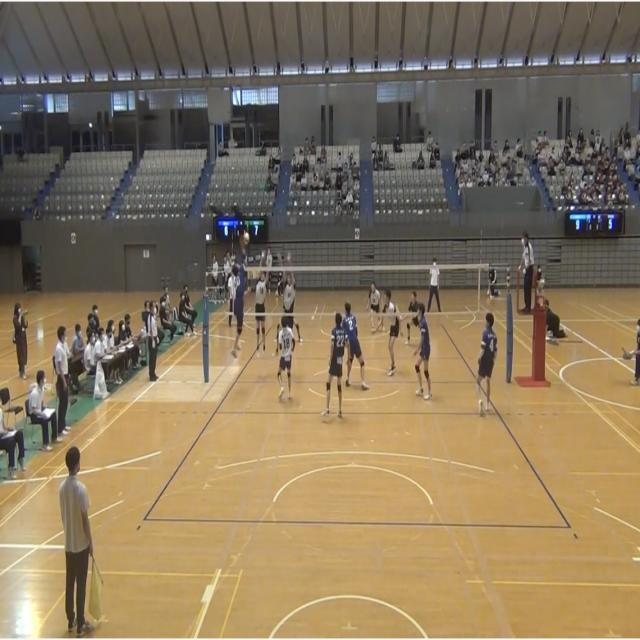spike: (226, 226, 251, 362)
